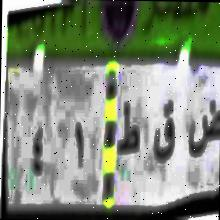1: (68, 113, 89, 176)
4: (28, 124, 46, 185)
Taa: (115, 99, 140, 160)
daad: (186, 98, 220, 160)
qaaf: (150, 98, 178, 164)
